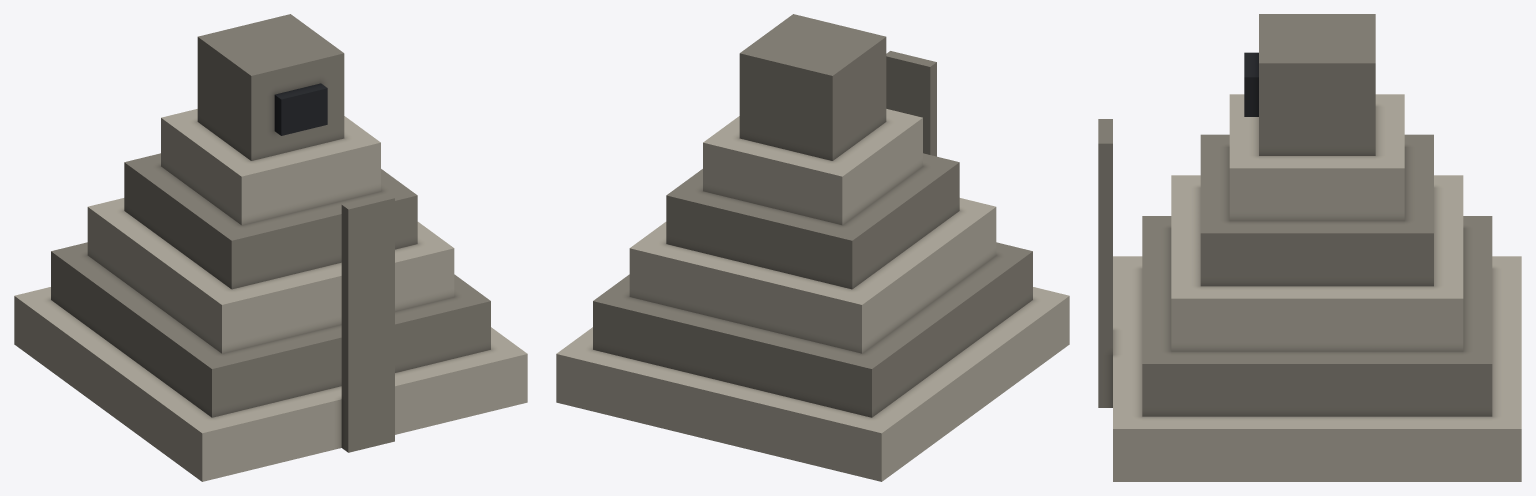
File: w_steps.glb
3 renders of one model, left to right at view 1: azimuth 30°, elevation 25°; view 2: azimuth 150°, elevation 25°; view 3: azimuth 270°, elevation 25°, orthographic. The views are drawn at different scales.
Visible parts, largest first — view 1: w_steps_body; view 2: w_steps_body; view 3: w_steps_body.
Part boxes in pixels (left/top/right/bottom): w_steps_body: left=14, top=14, right=527, bottom=481; w_steps_body: left=556, top=14, right=1069, bottom=481; w_steps_body: left=1098, top=14, right=1521, bottom=481.
Bounding box in the file's own units: 1.75 × 1.69 × 1.81.
Materials: 1 (1 with a texture image).
